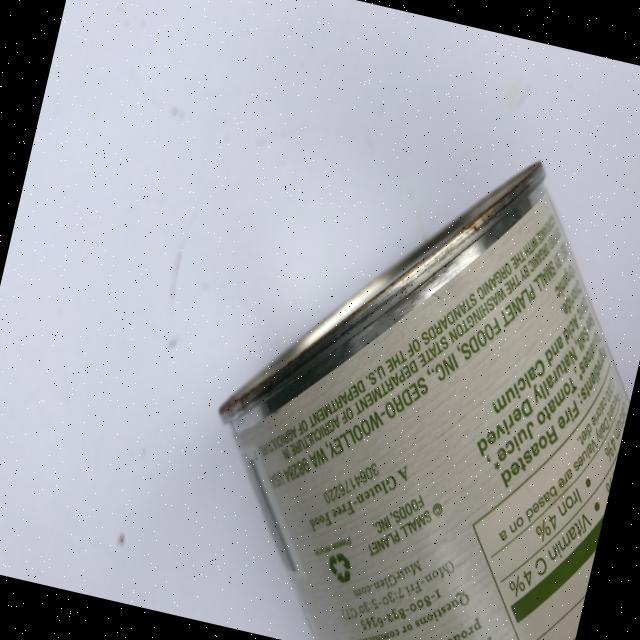metal: (170, 100, 640, 640)
